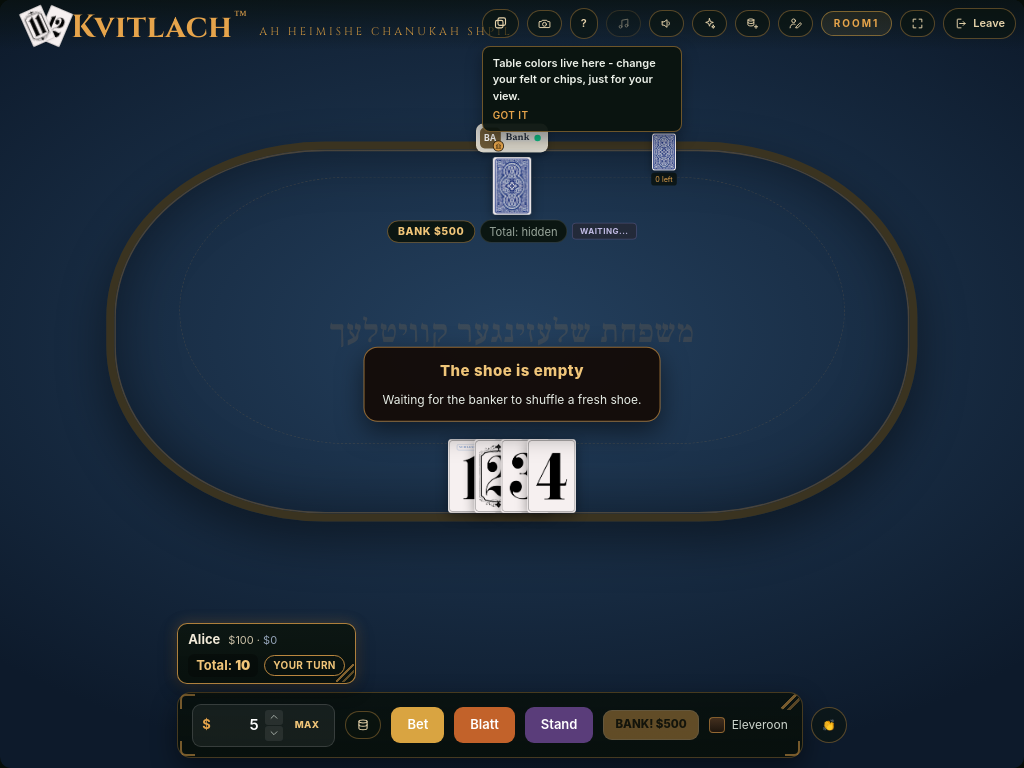
the felt table is the only in-room view › tap-to-fan-out a 4+ card hand › fans out on tap, marking both the hand and its seat
Click the button with class "k-hand" showing "SCHLESINGER".
click(512, 476)  # box [448, 439, 576, 513]
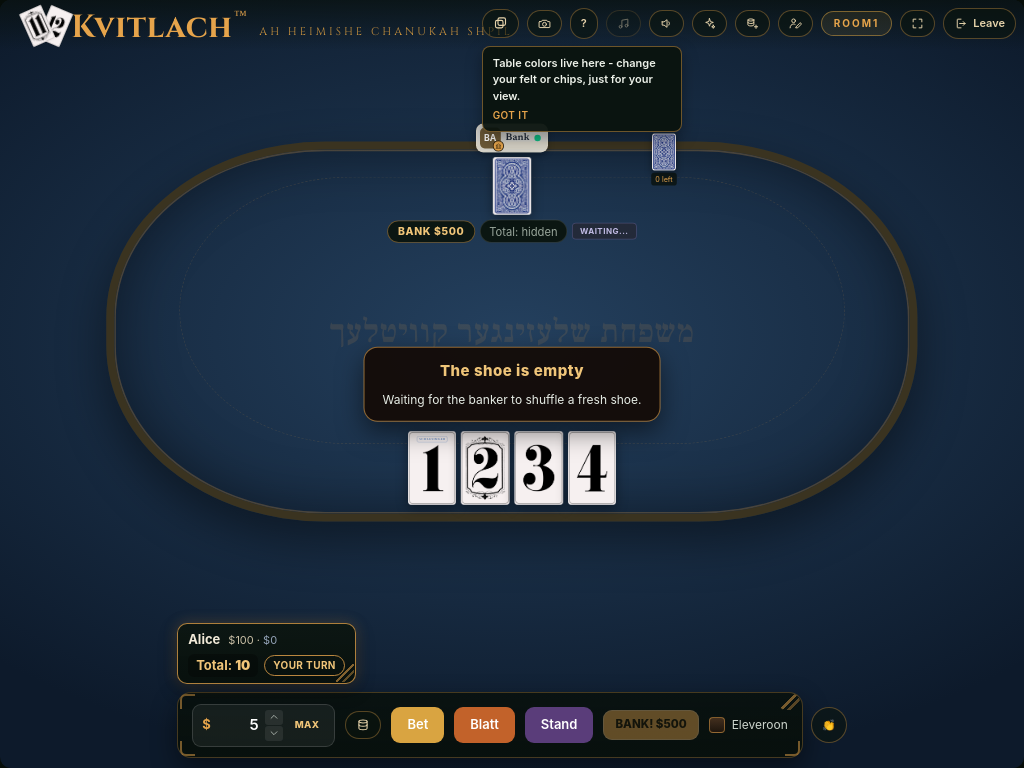
Expected: the button with class "k-hand" is expanded, [445, 431, 579, 505]
